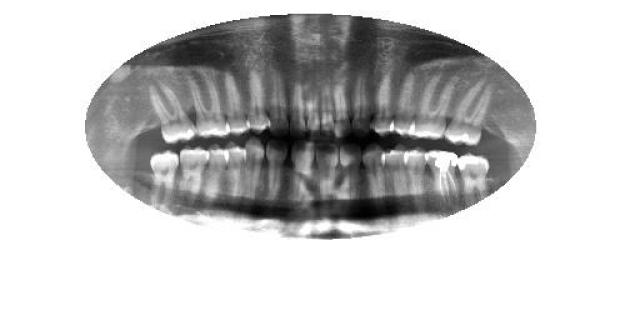Fillings: (445, 76, 493, 148), (150, 82, 196, 144), (458, 152, 490, 206)
Implant: (426, 148, 460, 212)
